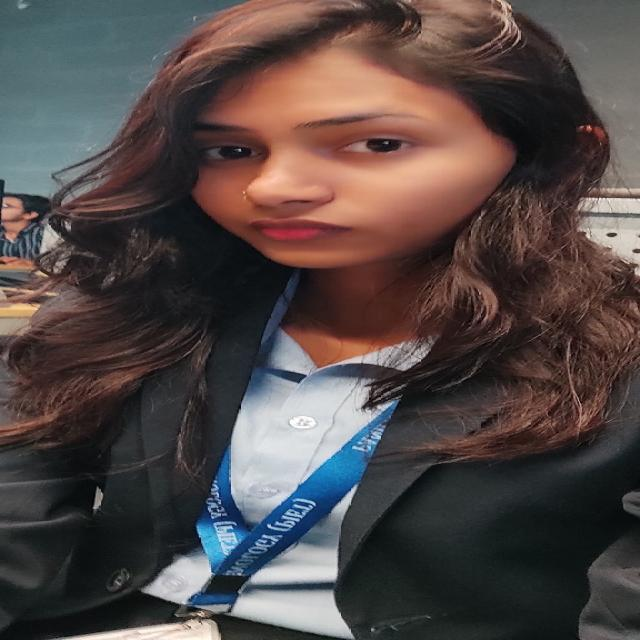uniform: (2, 266, 637, 638)
